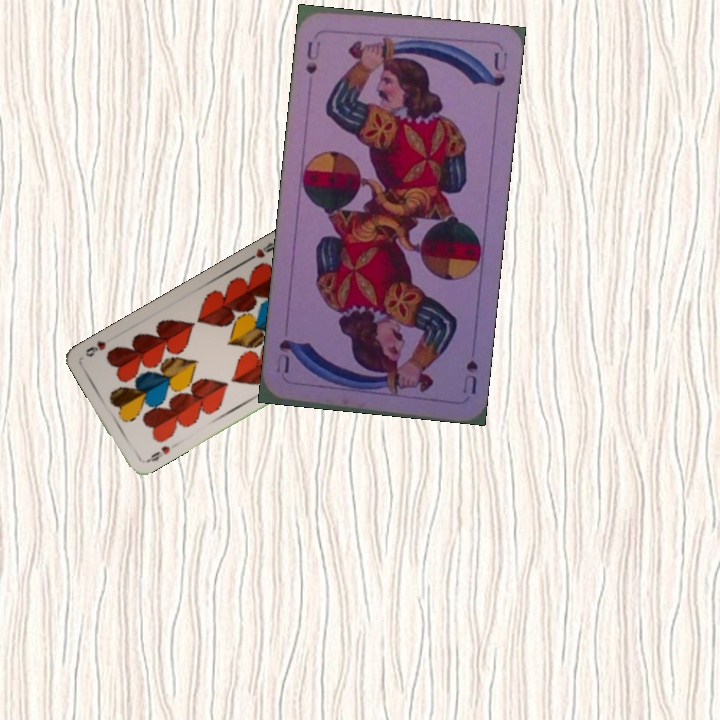H9: (242, 238, 279, 264), (140, 442, 173, 465)
SU: (459, 356, 481, 397), (302, 37, 323, 77)
